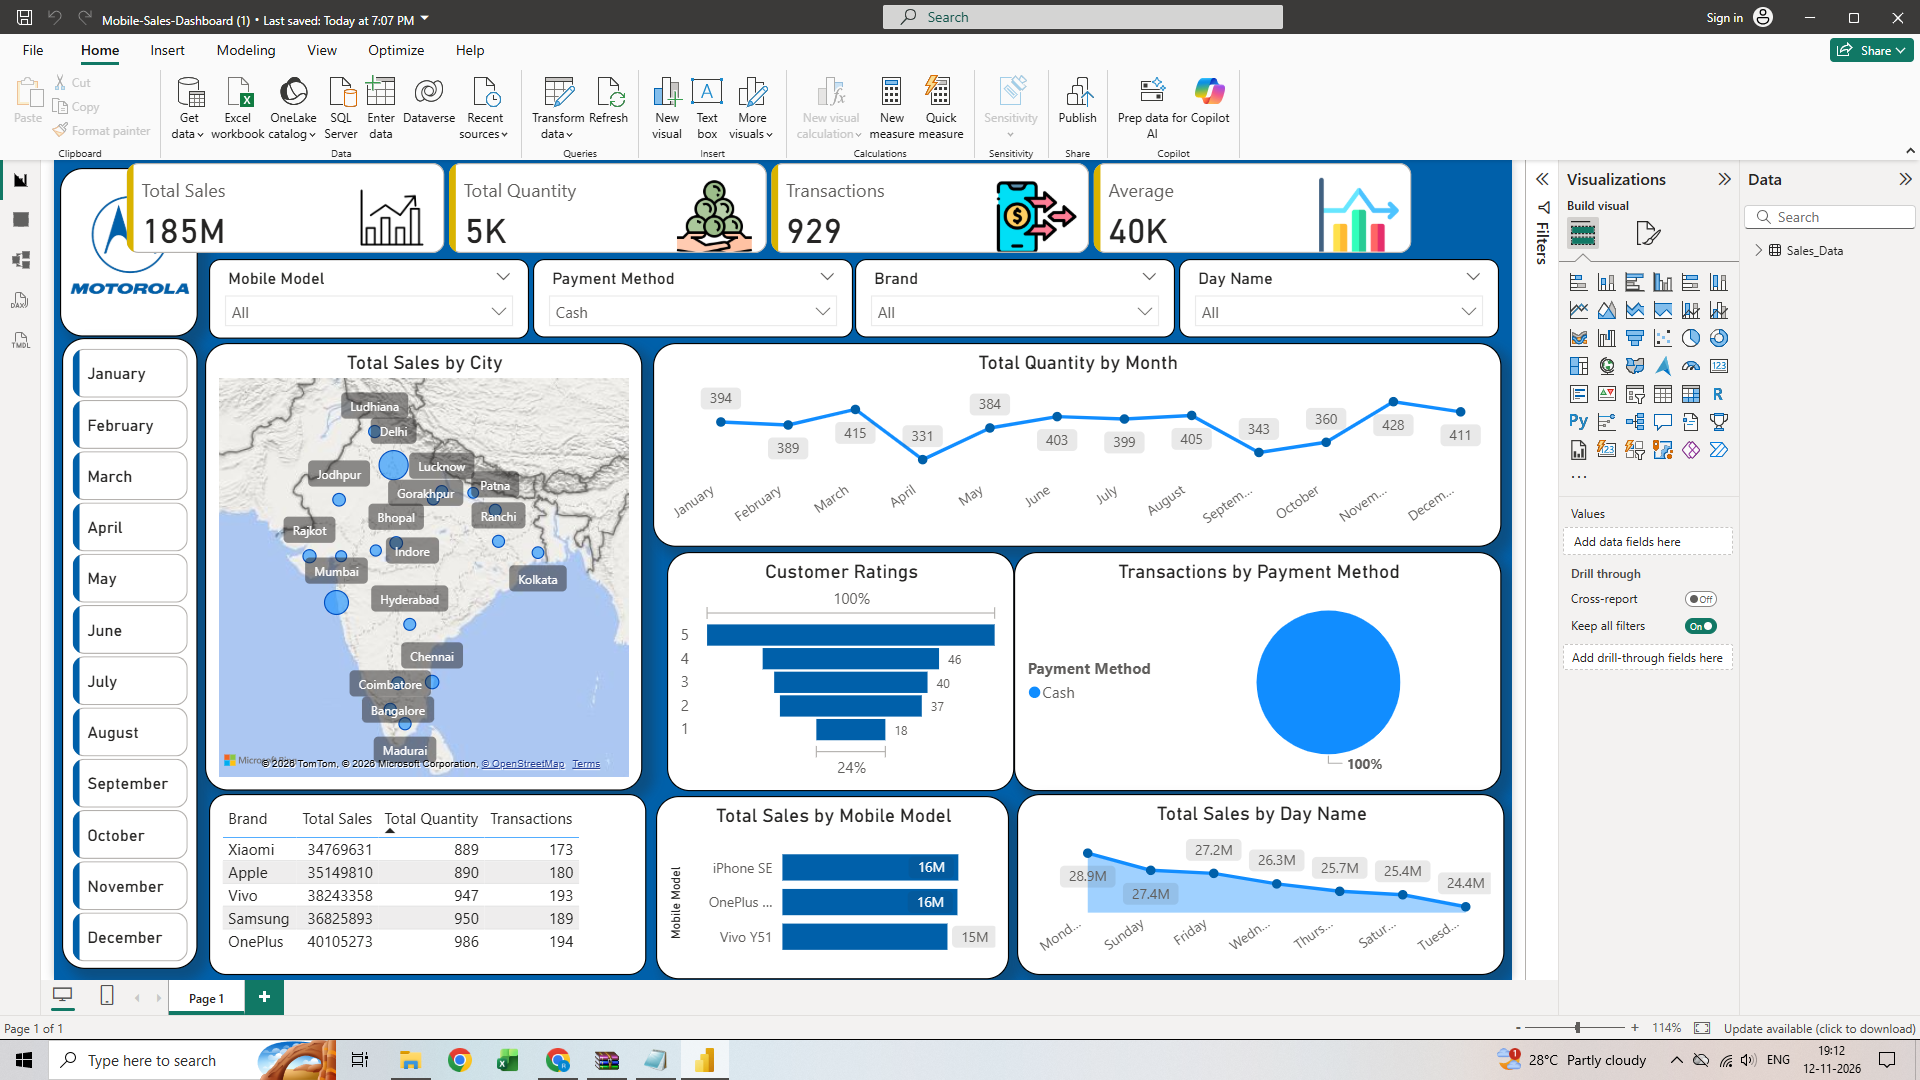

The page's visual inventory and layout, read from the dashboard file:
{"tool":"powerbi","page":{"name":"Page 1","canvas":[1280,720],"ordinal":0},"visuals":[{"type":"shape","box":[5.5,6.9,120.8,148.2],"z":0},{"type":"image","box":[9.6,16.5,113.9,116.6],"z":1000},{"type":"shape","box":[6.9,156.4,119.4,554.4],"z":2000},{"type":"advancedSlicerVisual","fields":{"Values":["Sales_Data.Date.Variation.Date Hierarchy.Month"]},"box":[11,160.5,111.1,548.9],"z":3000},{"type":"cardVisual","fields":{"Data":["Sales_Data.Total Sales","Sales_Data.Total Quantity","Sales_Data.Transactions","Sales_Data.Average"]},"box":[58.8,2.6,1139.7,84.3],"z":4000},{"type":"map","fields":{"Category":["Sales_Data.City"],"Size":["Sales_Data.Total Sales"]},"box":[132.9,160.8,384.1,393.1],"z":5000},{"type":"lineChart","fields":{"Y":["Sales_Data.Total Quantity"],"Category":["Sales_Data.Date.Variation.Date Hierarchy.Month","Sales_Data.Date.Variation.Date Hierarchy.Day"]},"box":[525.9,160.8,744.8,178.7],"z":6000},{"type":"clusteredBarChart","fields":{"Category":["Sales_Data.Mobile Model"],"Y":["Sales_Data.Total Sales"]},"box":[528.3,558.5,310.1,160.5],"z":7000},{"type":"pieChart","fields":{"Category":["Sales_Data.Payment Method"],"Y":["Sales_Data.Transactions"]},"box":[842.5,344.4,428.1,209.9],"z":8000},{"type":"funnel","title":"Customer Ratings","fields":{"Category":["Sales_Data.Customer Ratings"],"Y":["CountNonNull(Sales_Data.Customer Ratings)"]},"box":[538.2,344.2,304.7,209.9],"z":9000},{"type":"areaChart","fields":{"Category":["Sales_Data.Day Name"],"Y":["Sales_Data.Total Sales"]},"box":[845.3,557.1,428.1,159.2],"z":10000},{"type":"tableEx","fields":{"Values":["Sales_Data.Brand","Sales_Data.Total Sales","Sales_Data.Total Quantity","Sales_Data.Transactions"]},"box":[135.8,557.1,384.2,159.2],"z":11000},{"type":"slicer","fields":{"Values":["Sales_Data.Mobile Model"]},"box":[136.2,87.1,281.4,70.3],"z":12000},{"type":"slicer","fields":{"Values":["Sales_Data.Payment Method"]},"box":[421,87.1,281.4,69.2],"z":13000},{"type":"slicer","fields":{"Values":["Sales_Data.Brand"]},"box":[703.5,87.1,281.4,69.2],"z":14000},{"type":"slicer","fields":{"Values":["Sales_Data.Day Name"]},"box":[988.2,87.1,281.4,69.2],"z":15000}]}

Visuals, with their boxes on the page's 1280x720 design canvas (x1, y1, x2, y2). These are canvas units, not pixel positions in the 1920x1080 screenshot, which may show the page scaled, cropped or inside an application window:
shape: left=6, top=7, right=126, bottom=155
image: left=10, top=16, right=124, bottom=133
shape: left=7, top=156, right=126, bottom=711
advancedSlicerVisual - Sales_Data.Date.Variation.Date Hierarchy.Month: left=11, top=160, right=122, bottom=709
cardVisual - Sales_Data.Total Sales x Sales_Data.Total Quantity: left=59, top=3, right=1198, bottom=87
map - Sales_Data.City x Sales_Data.Total Sales: left=133, top=161, right=517, bottom=554
lineChart - Sales_Data.Total Quantity x Sales_Data.Date.Variation.Date Hierarchy.Month: left=526, top=161, right=1271, bottom=340
clusteredBarChart - Sales_Data.Mobile Model x Sales_Data.Total Sales: left=528, top=558, right=838, bottom=719
pieChart - Sales_Data.Payment Method x Sales_Data.Transactions: left=842, top=344, right=1271, bottom=554
"Customer Ratings" funnel: left=538, top=344, right=843, bottom=554
areaChart - Sales_Data.Day Name x Sales_Data.Total Sales: left=845, top=557, right=1273, bottom=716
tableEx - Sales_Data.Brand x Sales_Data.Total Sales: left=136, top=557, right=520, bottom=716
slicer - Sales_Data.Mobile Model: left=136, top=87, right=418, bottom=157
slicer - Sales_Data.Payment Method: left=421, top=87, right=702, bottom=156
slicer - Sales_Data.Brand: left=704, top=87, right=985, bottom=156
slicer - Sales_Data.Day Name: left=988, top=87, right=1270, bottom=156
